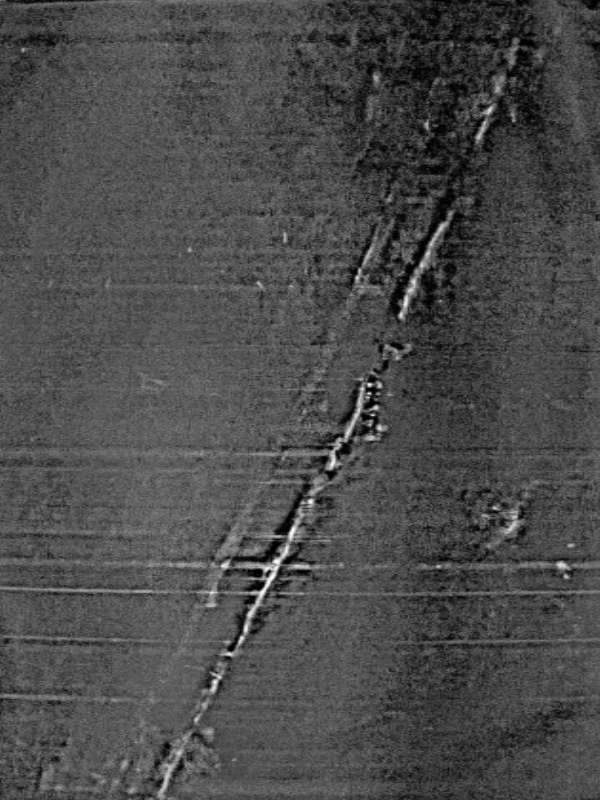splice_vulcanized: (95, 1, 544, 798)
